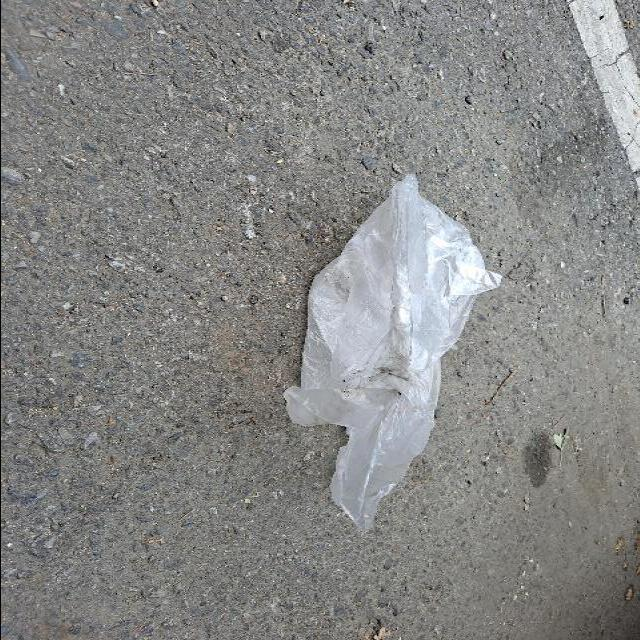plastic bag: (282, 165, 506, 539)
